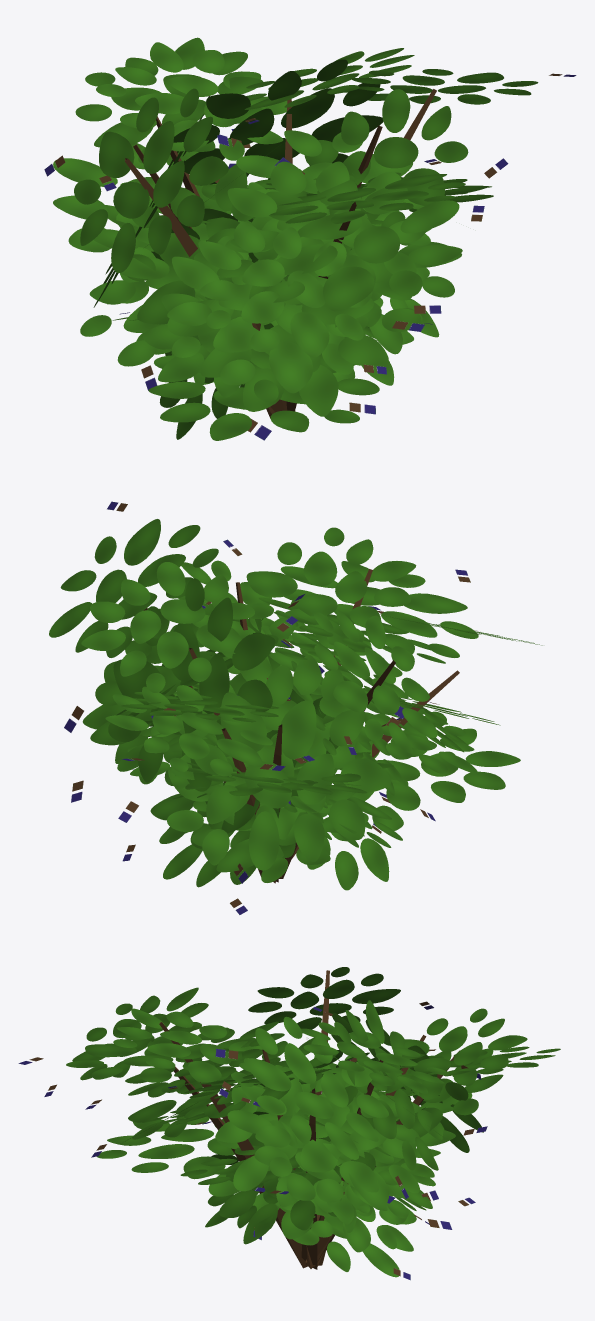
The model's file is bush_branchy.glb.
The picture shows the model from 3 angles, top to bottom: view 1: azimuth 30°, elevation 25°; view 2: azimuth 150°, elevation 25°; view 3: azimuth 270°, elevation 25°; orthographic projection. The views are drawn at different scales.
Parts seen in each view (by area): view 1: bush_branchy; view 2: bush_branchy; view 3: bush_branchy.
Part boxes in pixels (left/top/right/bottom): bush_branchy: left=44, top=37, right=576, bottom=440; bush_branchy: left=49, top=501, right=542, bottom=914; bush_branchy: left=18, top=967, right=560, bottom=1280.
Bounding box in the file's own units: 1.5 × 1.15 × 1.85.
1 material, 1 textured.
